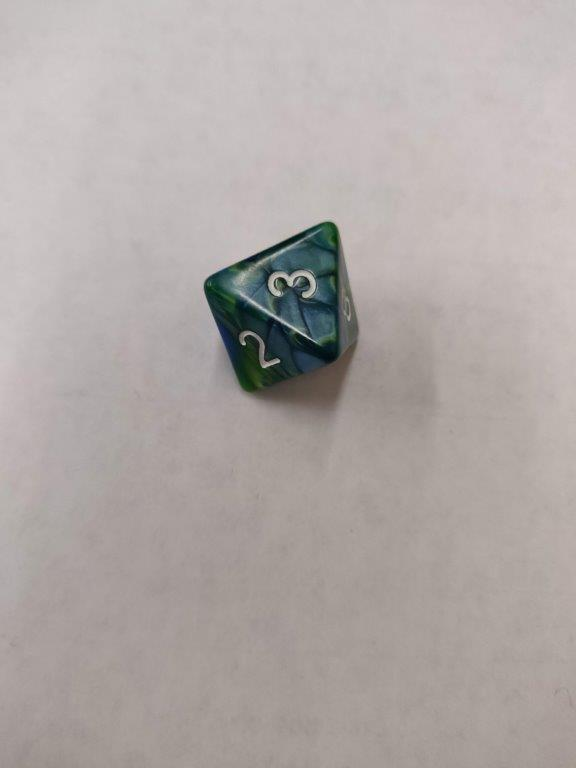d8-3: (205, 220, 366, 397)
